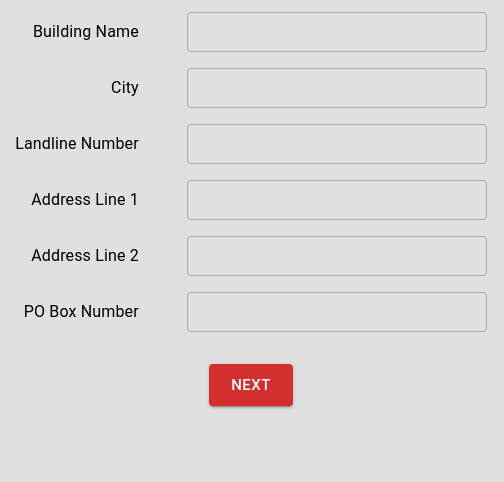
Test: Office details › should show error message on API failure
Type "Building" into the field next to "Building Name". click: point(337, 32)
box: [187, 12, 487, 52]
Type "Bangalore" into the field next to "City". click: point(337, 88)
box: [187, 68, 487, 108]
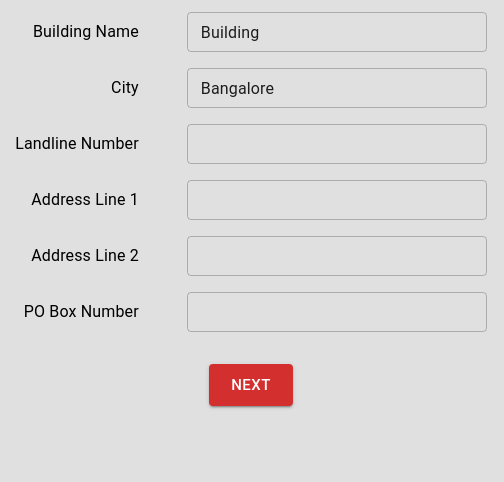
Type "1234567890" into the field next to "Landline Number". click: point(337, 144)
box: [187, 124, 487, 164]
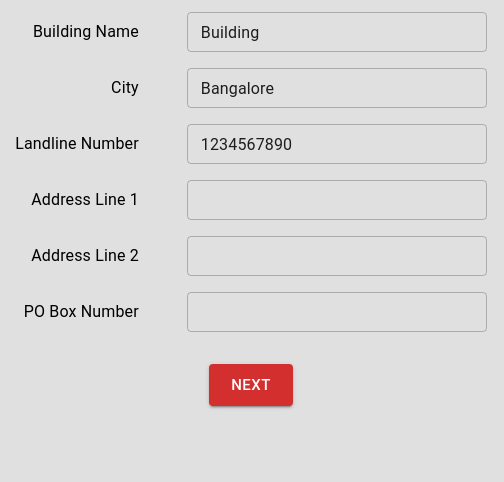
Type "Address Line 1" into the field next to "Address Line 1". click: point(337, 200)
box: [187, 180, 487, 220]
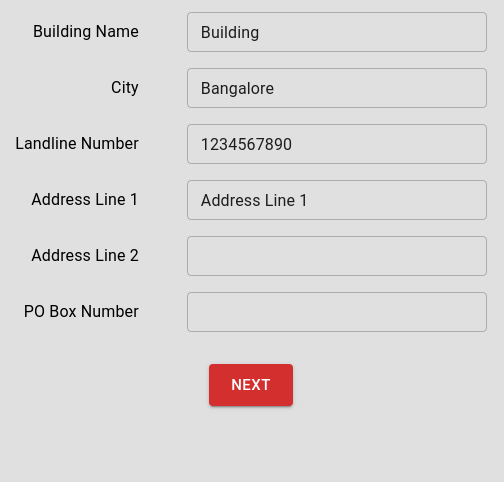
Type "Address Line 2" into the field next to "Address Line 2". click: point(337, 256)
box: [187, 236, 487, 276]
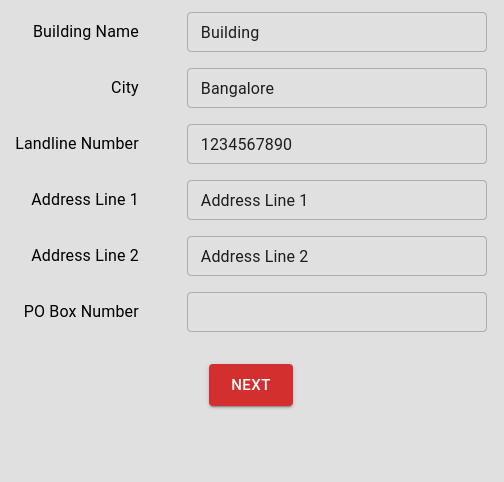
Type "0987654321" into the field next to "PO Box Number". click: point(337, 312)
box: [187, 292, 487, 332]
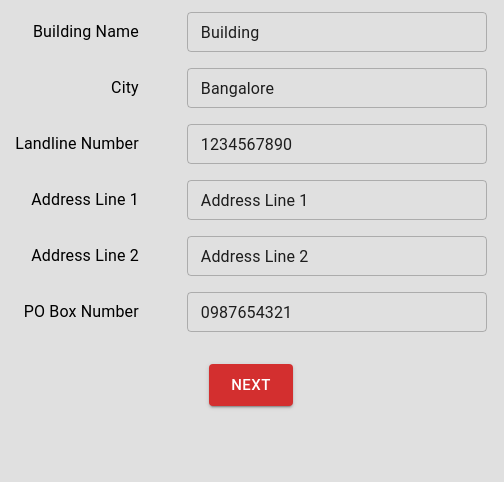
Click the button with test id "office-details-next-button". click: point(251, 385)
box: [209, 364, 293, 406]
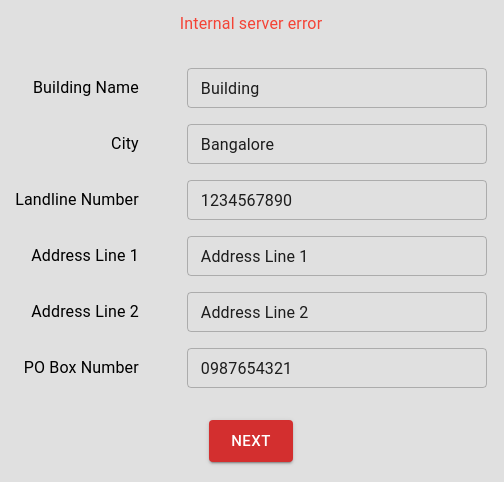
Result: the text "Internal server error" is shown at [180, 12, 322, 36]
